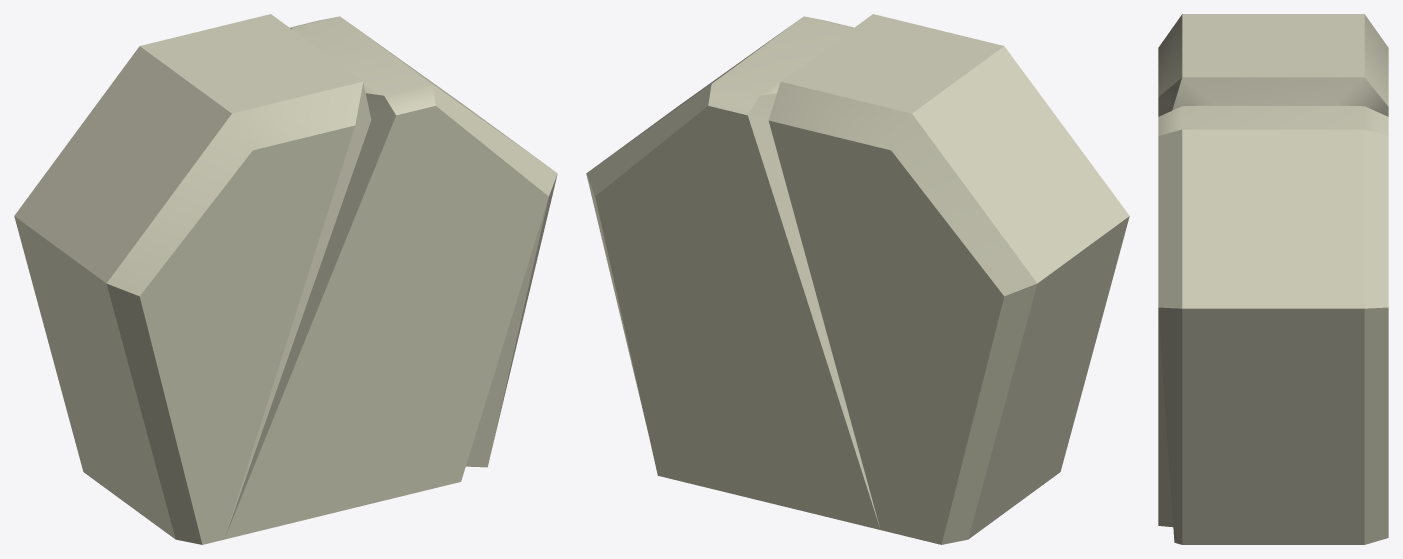
The model's file is SM_Stone_Deco_04.fbx.
3 renders of one model, left to right at view 1: azimuth 30°, elevation 25°; view 2: azimuth 150°, elevation 25°; view 3: azimuth 270°, elevation 25°, orthographic.
Parts seen in each view (by area): view 1: SM_Stone_Deco_04; view 2: SM_Stone_Deco_04; view 3: SM_Stone_Deco_04.
Boxes of the visible parts, <box> form: SM_Stone_Deco_04: <box>14,14,557,544</box>; SM_Stone_Deco_04: <box>586,14,1129,544</box>; SM_Stone_Deco_04: <box>1158,14,1388,544</box>.
Size of the model in its own units: 61.07 by 53.32 by 27.33.
